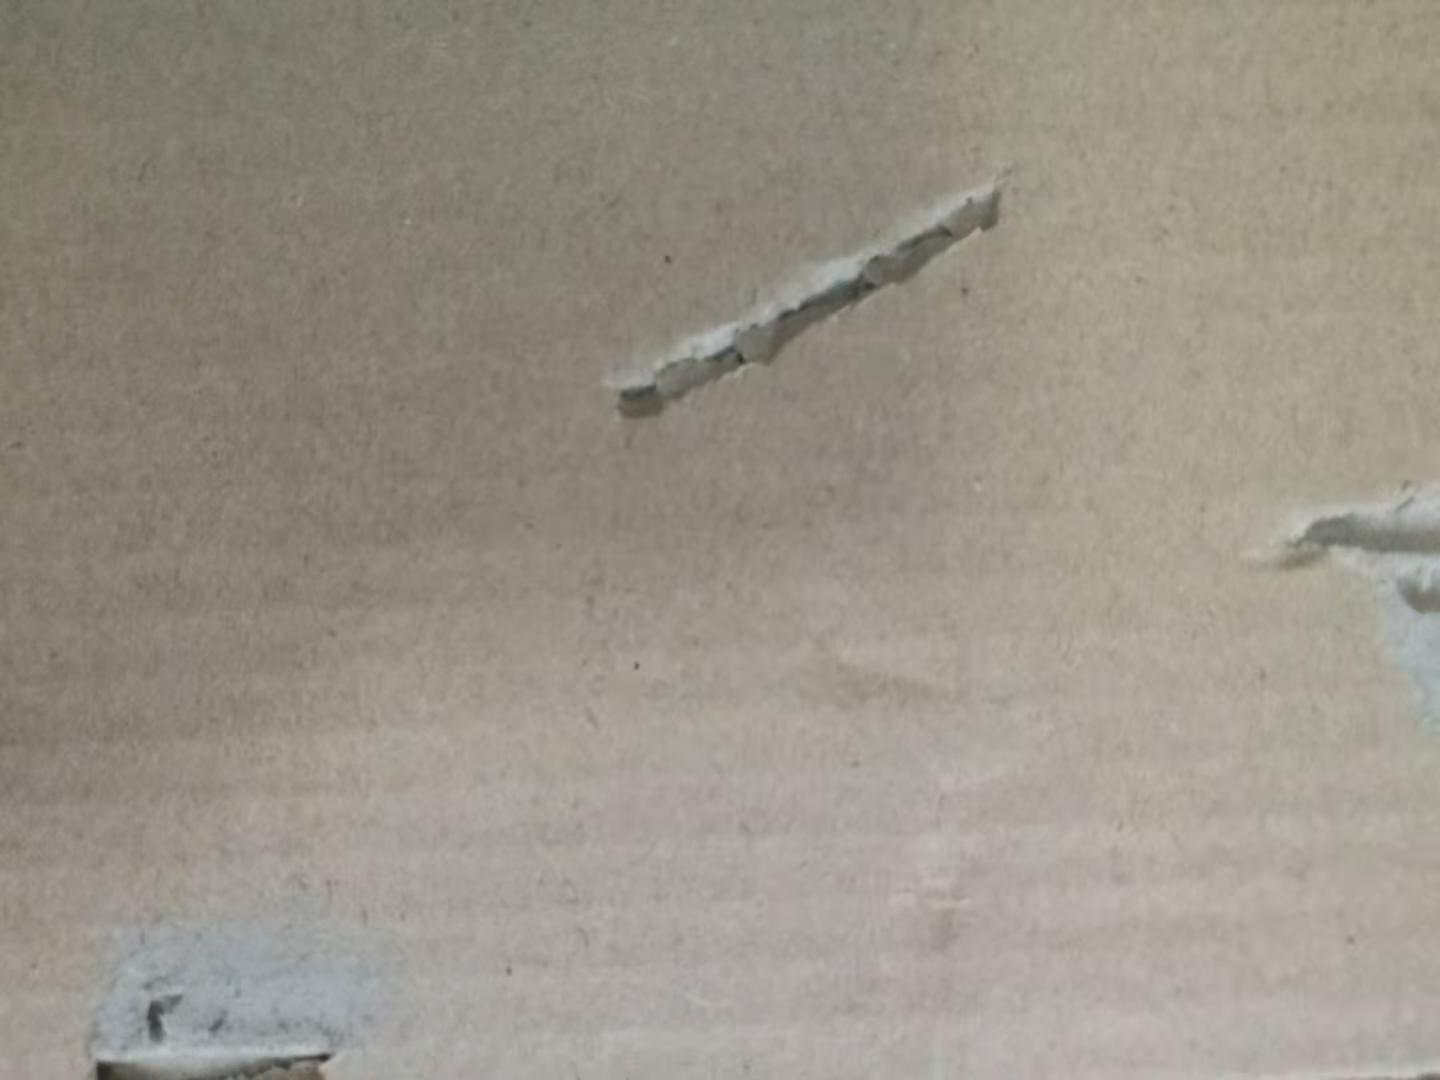defect: (571, 147, 1039, 455), (43, 875, 422, 1080), (1226, 452, 1440, 763)
